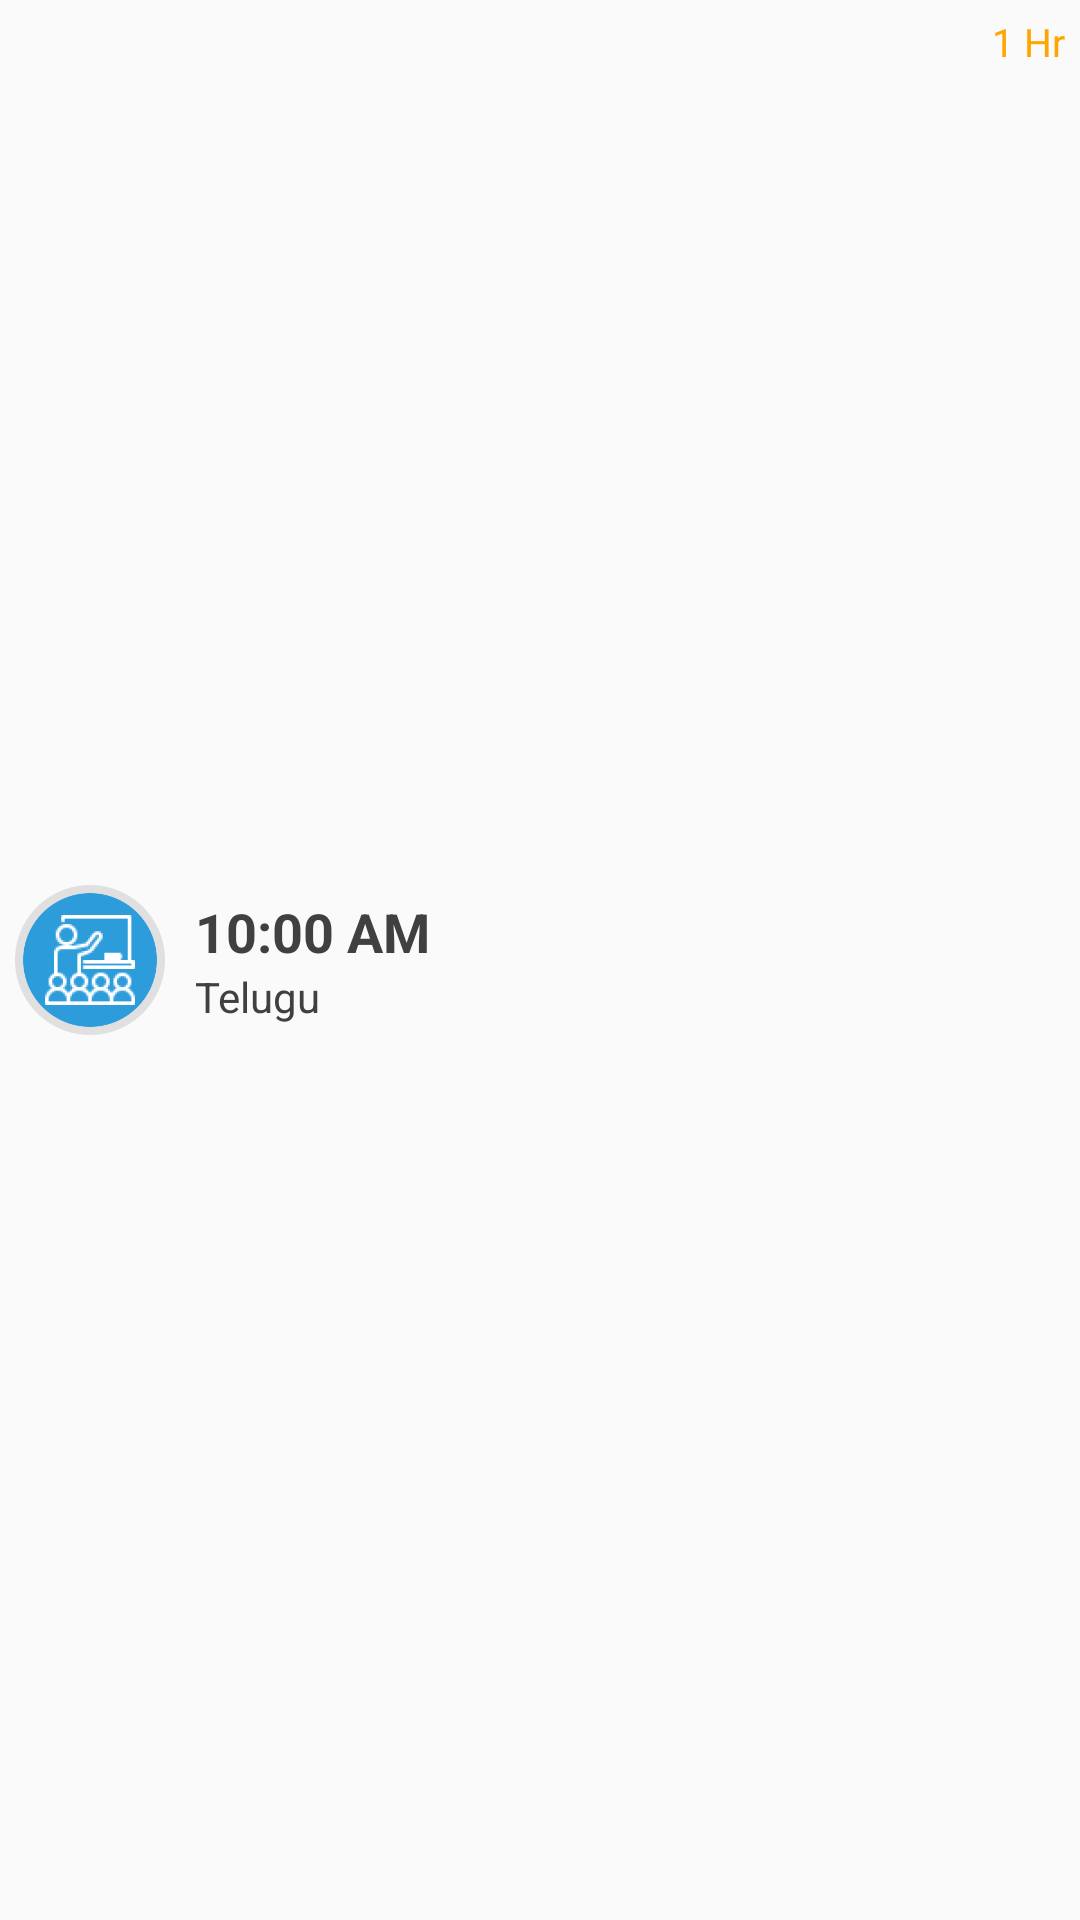

Point at icon controls on the screen. Image size 1080×1920, points as (x=x, y=y).
timetableitem: (x=90, y=960)
